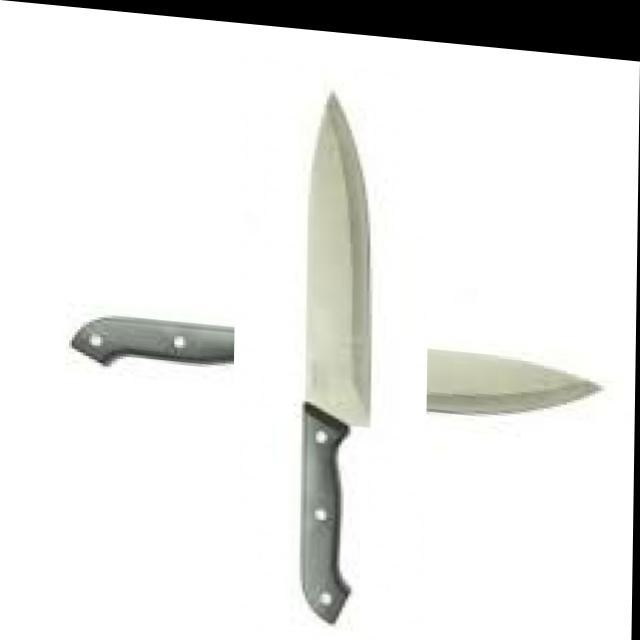knife: (67, 314, 604, 417), (297, 90, 374, 627)
